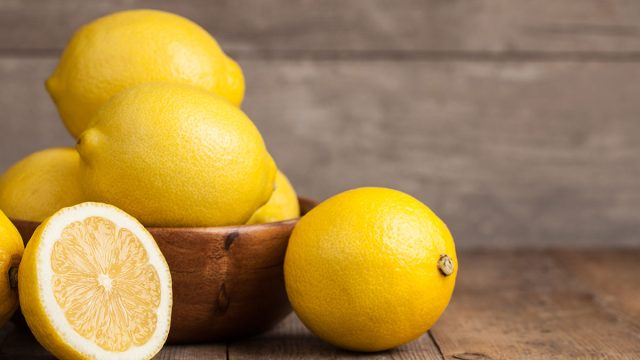lemon: (283, 185, 459, 348), (18, 201, 175, 359)
